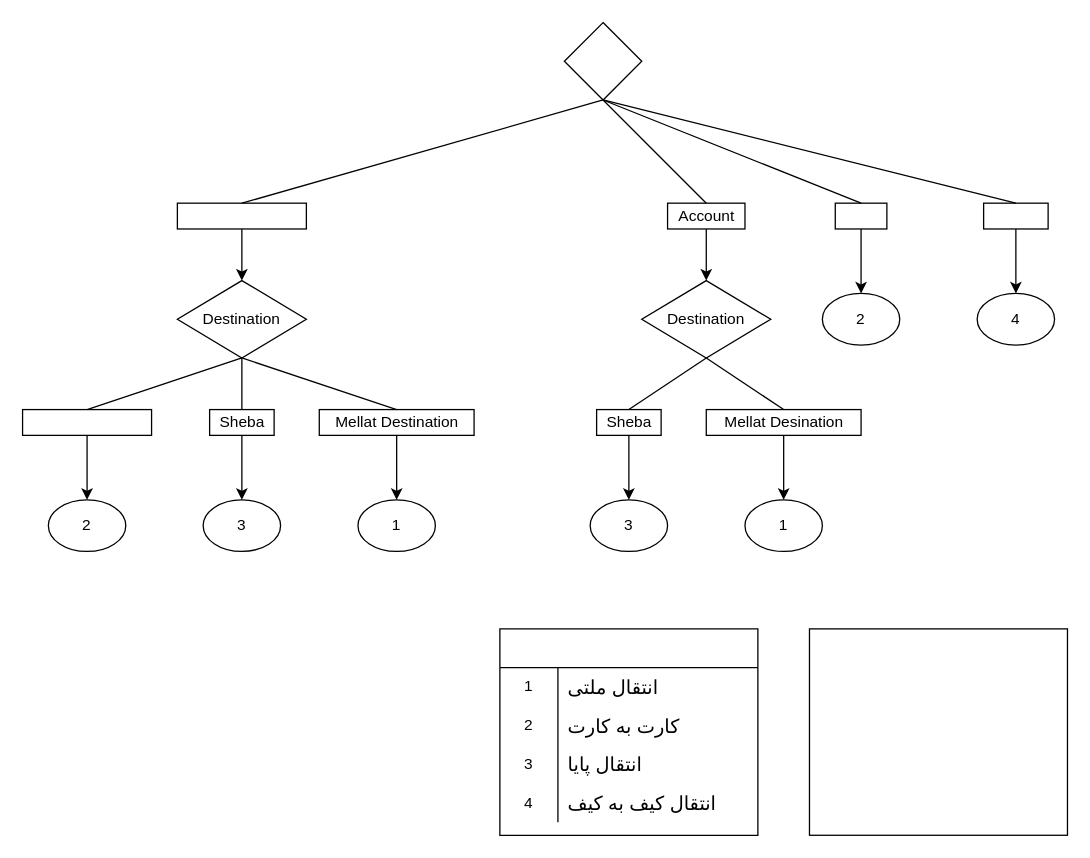
The diagram is 1090 pixels wide and 858 high, and some of its shapes have lost their labels. Each missing label, with the box of its shape:
Another Card: (21, 408, 152, 435)
Card: (834, 202, 887, 229)
Card | Account: (176, 202, 306, 229)
Origin: (563, 21, 642, 100)
Wallet: (982, 202, 1048, 229)
انواع انتقال: (499, 628, 758, 835)
مقصد ملتی حساب یا کارت پیش شماره ملت و بن کارت نباشد: (808, 628, 1067, 835)
